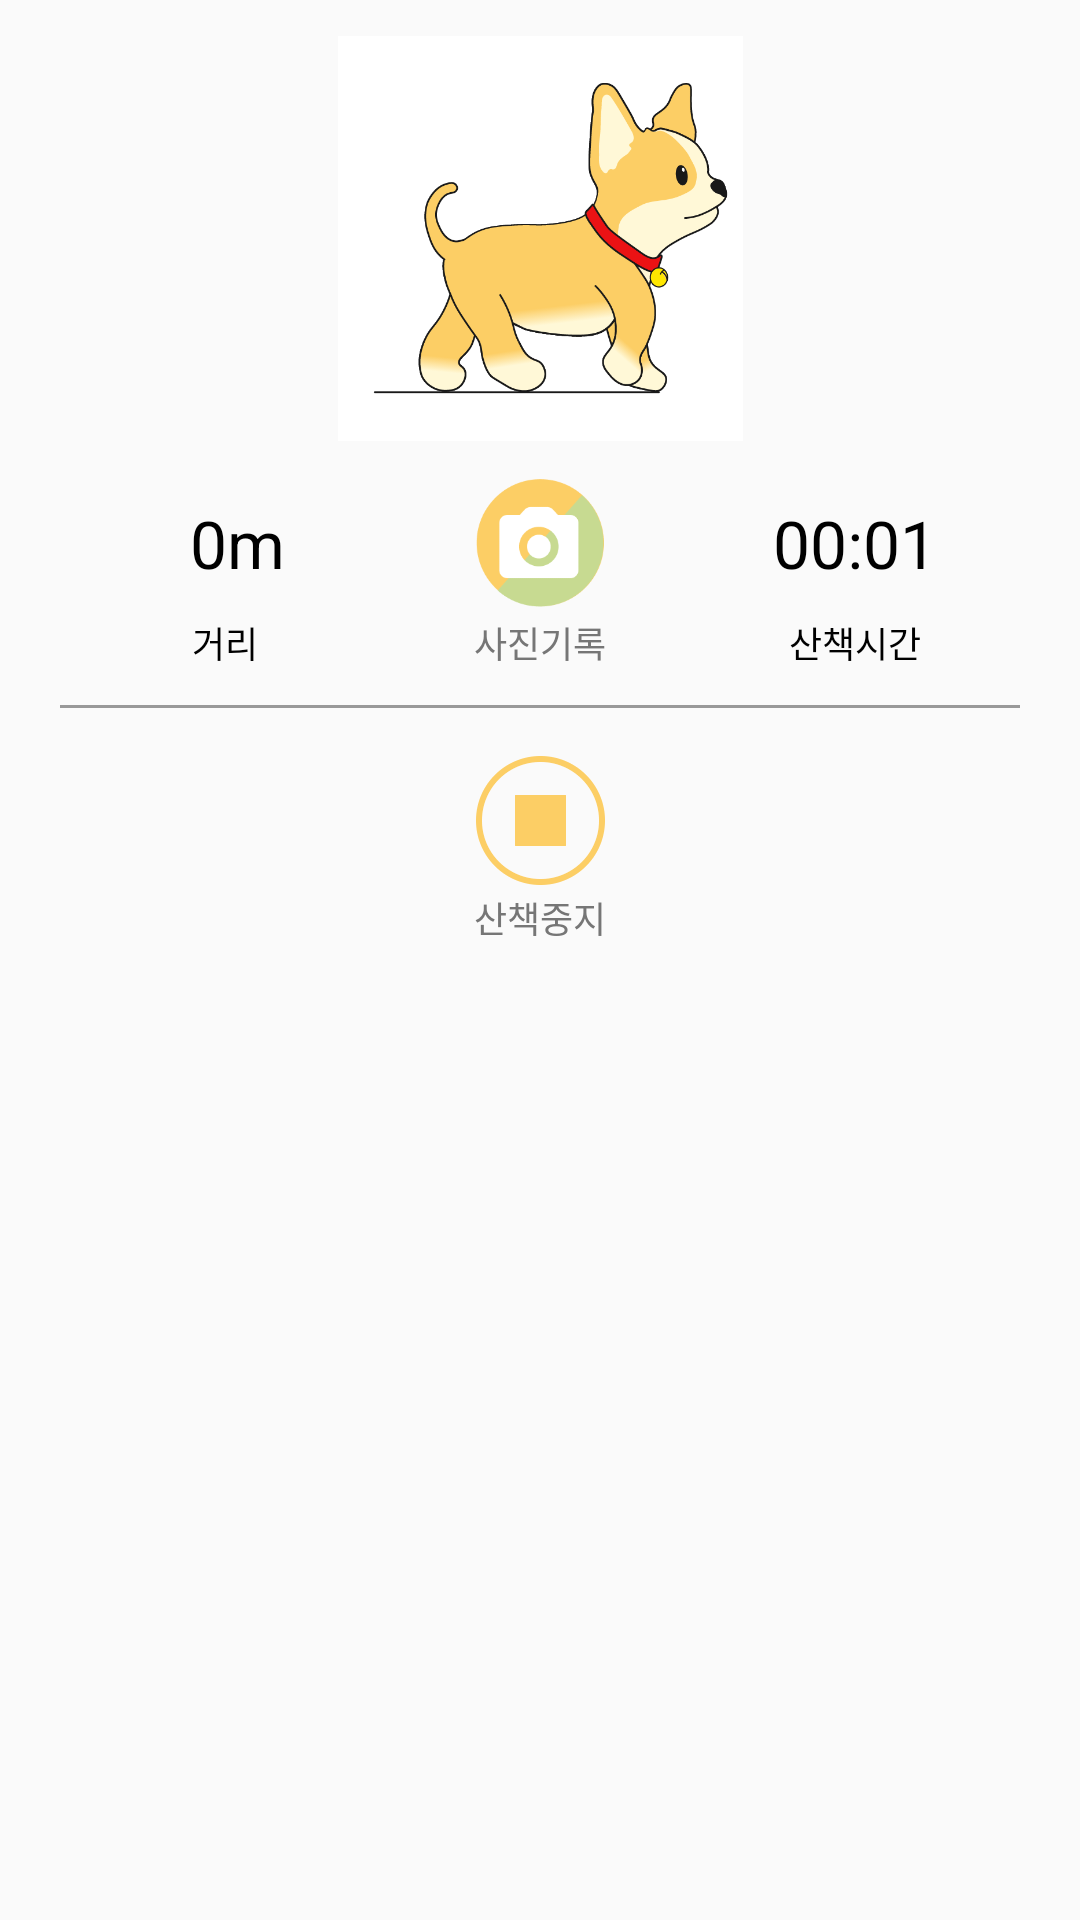

Named icons in this screenshot (1080px x 1920px) and their bounding boxes, (left=x1, top=y1, right=x2, bottom=y2):
movedog: (left=374, top=83, right=728, bottom=394)
